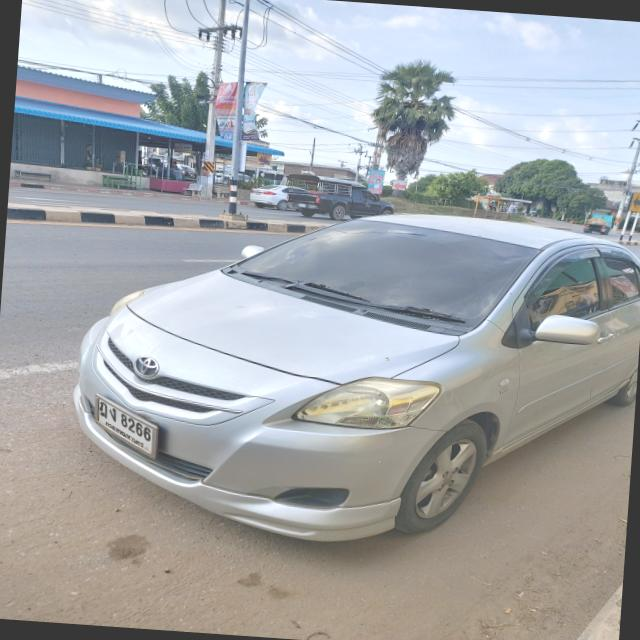license_plate: (95, 396, 155, 455)
